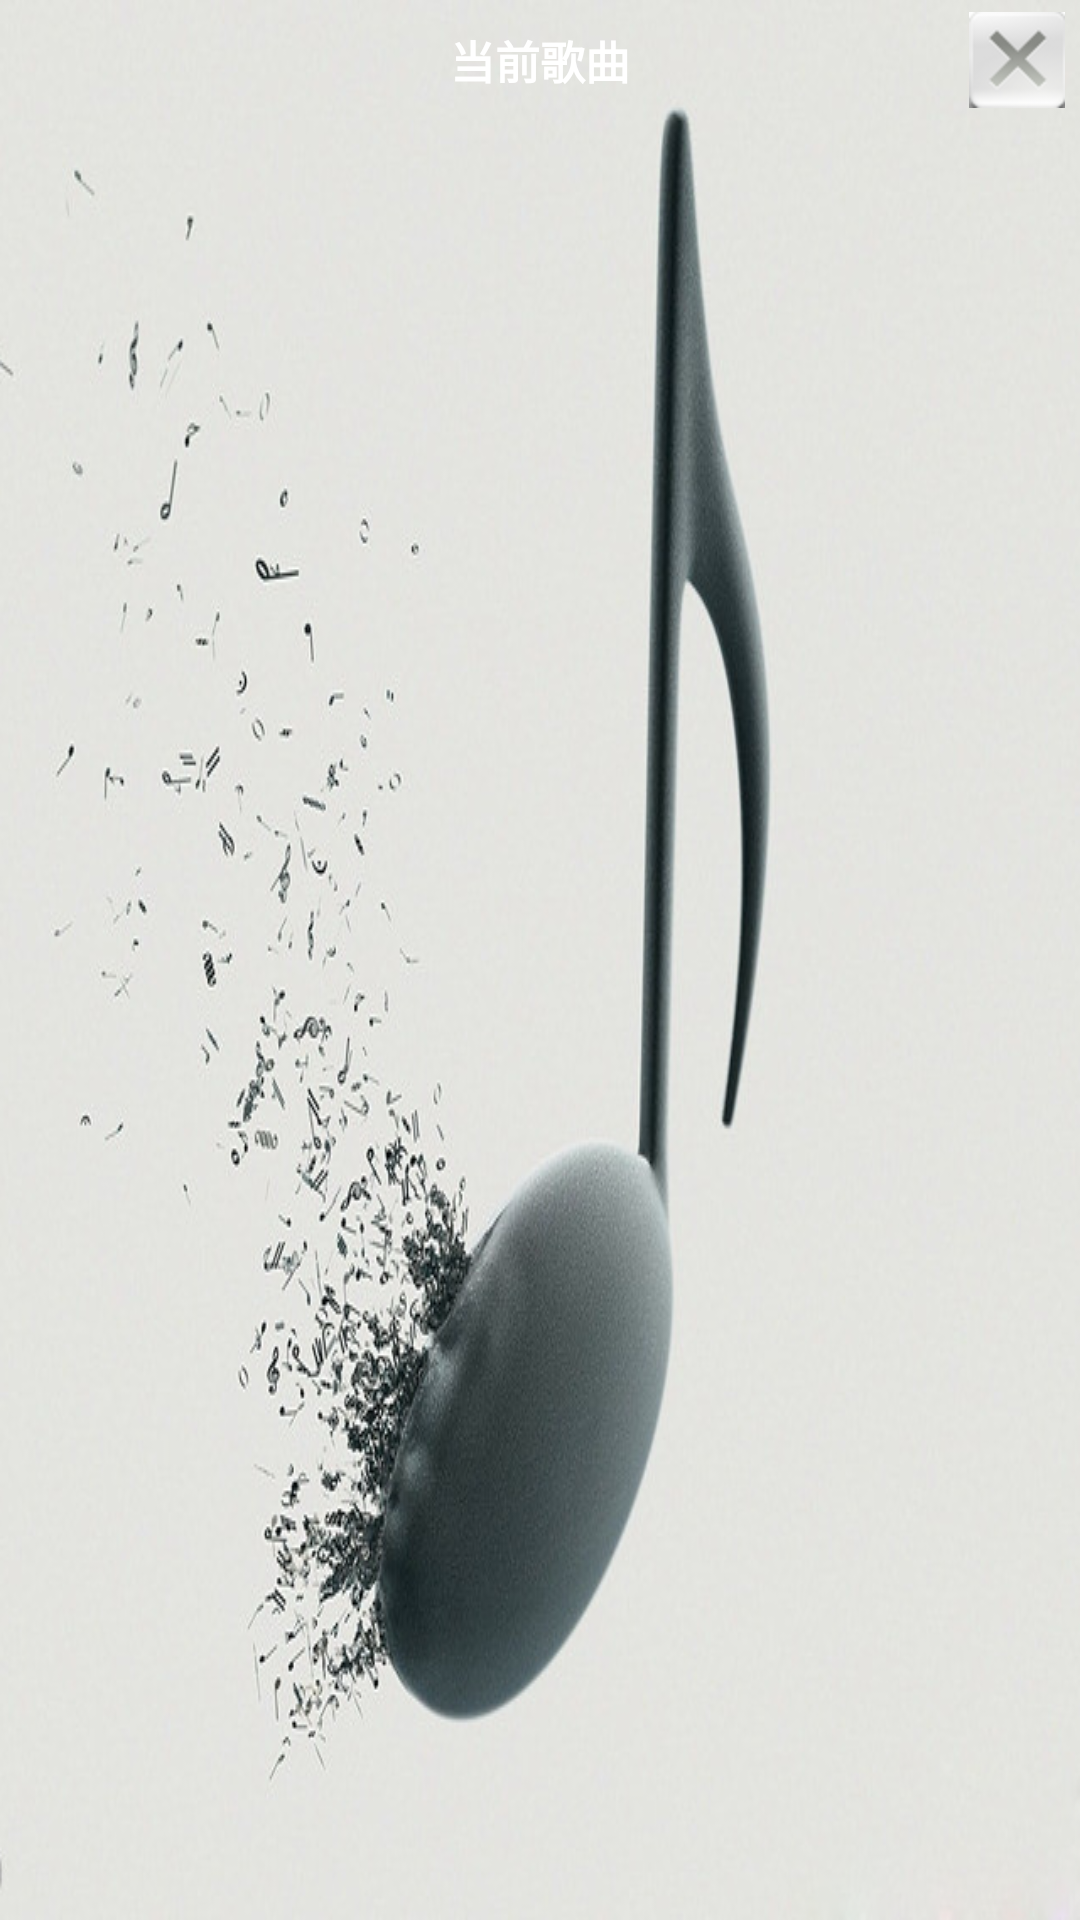

Named icons in this screenshot (1080x1920) and their bounding boxes, {"x1": x1, "y1": y1, "x2": x2, "y2": y2}:
closeact: {"x1": 969, "y1": 12, "x2": 1065, "y2": 108}
